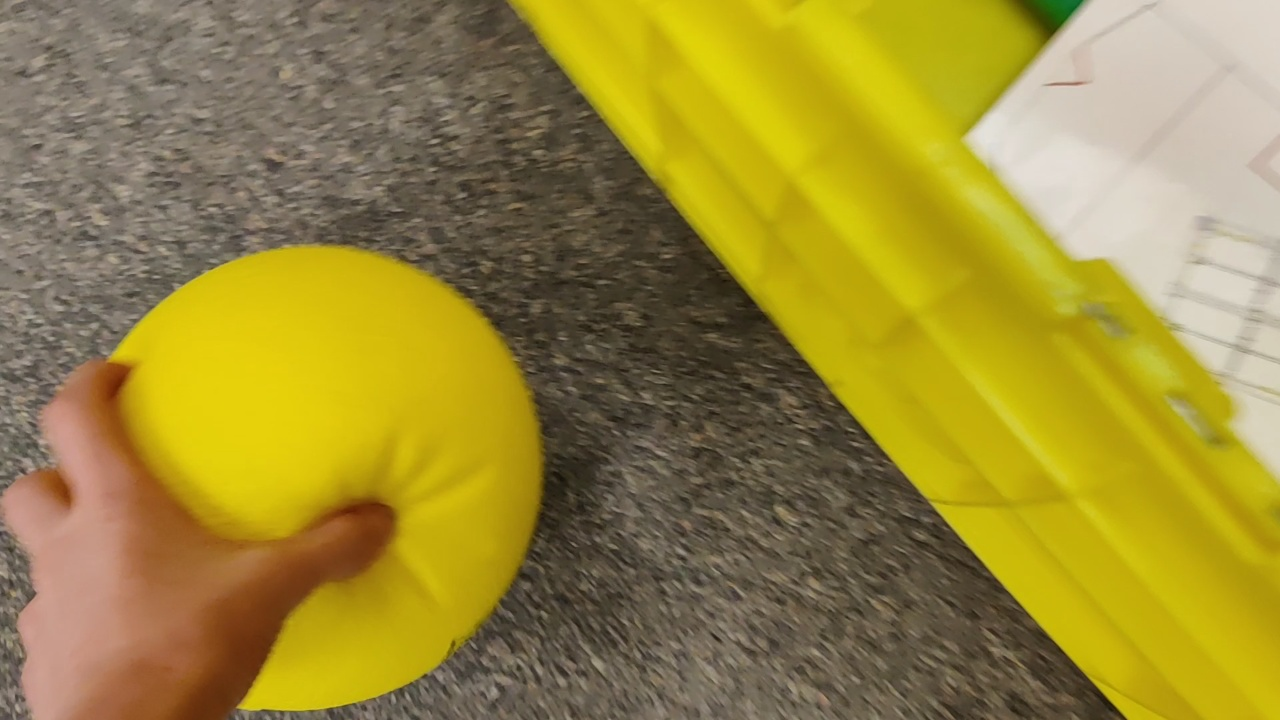Ball: (73, 245, 543, 712)
